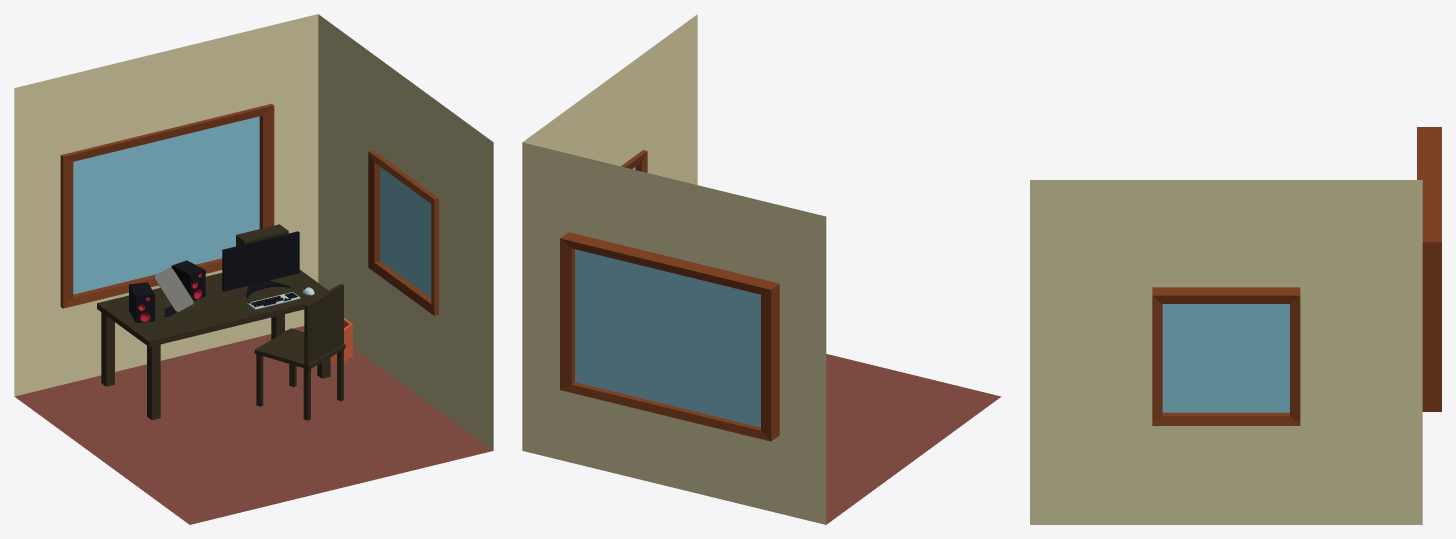
The model's file is contactScene.glb.
3 renders of one model, left to right at view 1: azimuth 30°, elevation 25°; view 2: azimuth 150°, elevation 25°; view 3: azimuth 270°, elevation 25°, orthographic. The views are drawn at different scales.
Visible parts, largest first — view 1: room, window.face, desk, window.side, chair, Cube.001, Cube.008, Cube.006, Cube.007, Cube.002; view 2: room, window.face; view 3: room, window.side, window.face.
Part boxes in pixels (left/top/right/bottom): room: left=14, top=14, right=493, bottom=524; window.face: left=60, top=103, right=274, bottom=308; desk: left=97, top=269, right=330, bottom=420; window.side: left=368, top=150, right=438, bottom=315; chair: left=254, top=284, right=345, bottom=420; Cube.001: left=222, top=231, right=299, bottom=291; Cube.008: left=129, top=282, right=154, bottom=322; Cube.006: left=154, top=267, right=193, bottom=312; Cube.007: left=171, top=260, right=205, bottom=300; Cube.002: left=236, top=224, right=288, bottom=246; room: left=522, top=14, right=1001, bottom=524; window.face: left=560, top=232, right=779, bottom=441; room: left=1030, top=180, right=1422, bottom=524; window.side: left=1152, top=287, right=1300, bottom=425; window.face: left=1417, top=127, right=1441, bottom=411.
Size of the model in its own units: 2.1 by 1.95 by 2.1.
